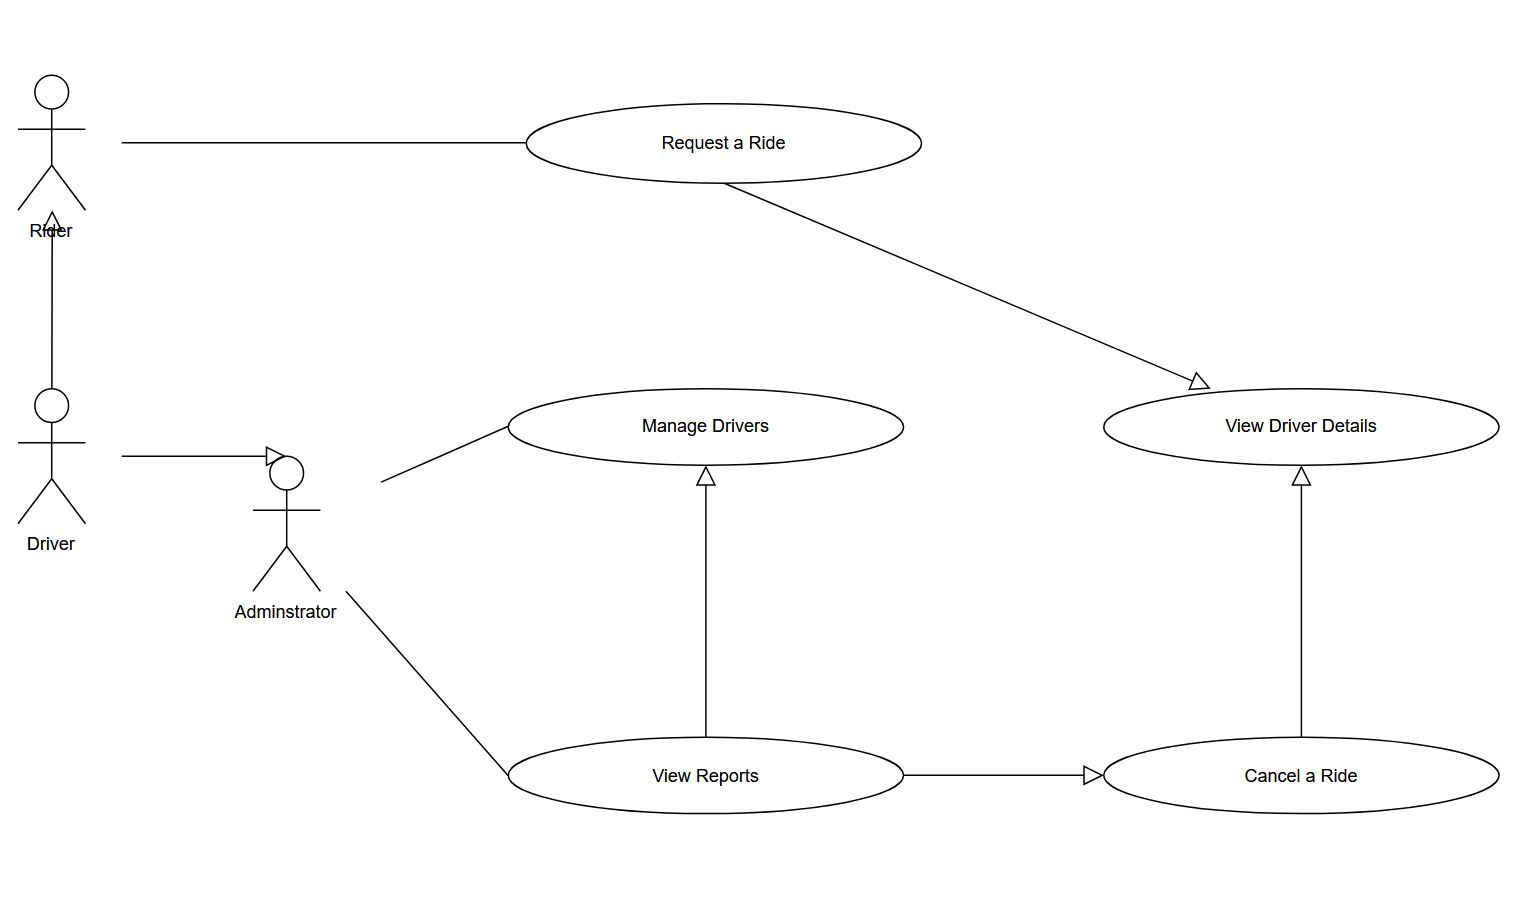actor: (12, 67, 91, 214), (12, 385, 91, 531), (240, 457, 319, 591)
association: (344, 586, 510, 778), (117, 122, 526, 162), (379, 422, 507, 483)
generalization: (730, 184, 1213, 390), (1287, 466, 1314, 738), (693, 464, 719, 734), (903, 760, 1098, 792), (38, 210, 65, 385), (112, 442, 283, 465)
text: (1224, 404, 1406, 441), (632, 411, 786, 446), (650, 122, 791, 160), (650, 760, 773, 792), (1236, 764, 1366, 792), (229, 601, 344, 625), (24, 216, 79, 240), (17, 533, 83, 554)
use_case: (505, 733, 906, 819), (525, 102, 925, 187), (507, 385, 908, 469), (1100, 385, 1501, 469), (1098, 734, 1503, 818)
